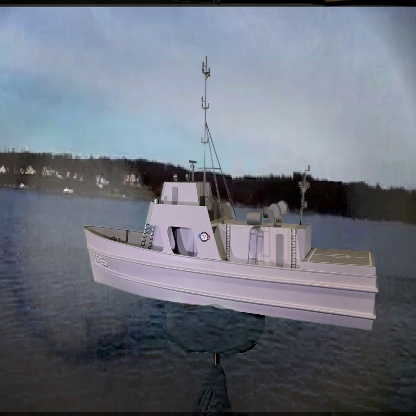YP689: (84, 56, 371, 332)
